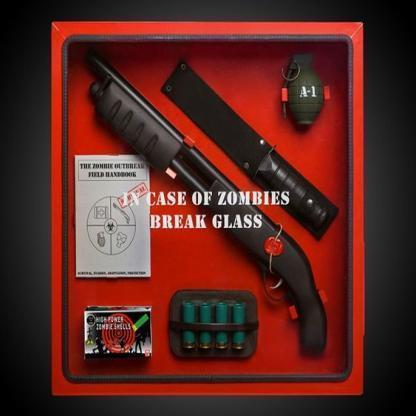Grenade: (279, 57, 330, 133)
Gun: (79, 44, 330, 359)
Knife: (163, 58, 340, 243)
